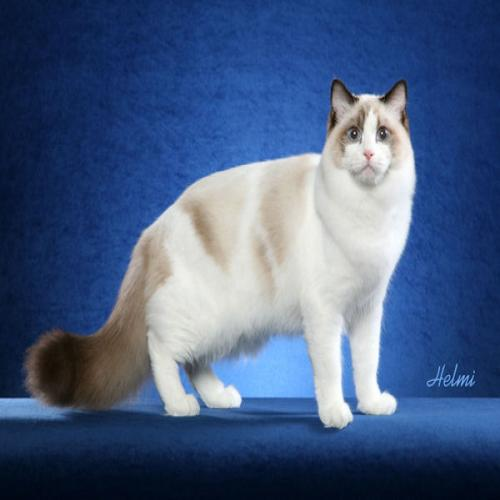ragdoll: (319, 67, 419, 207)
